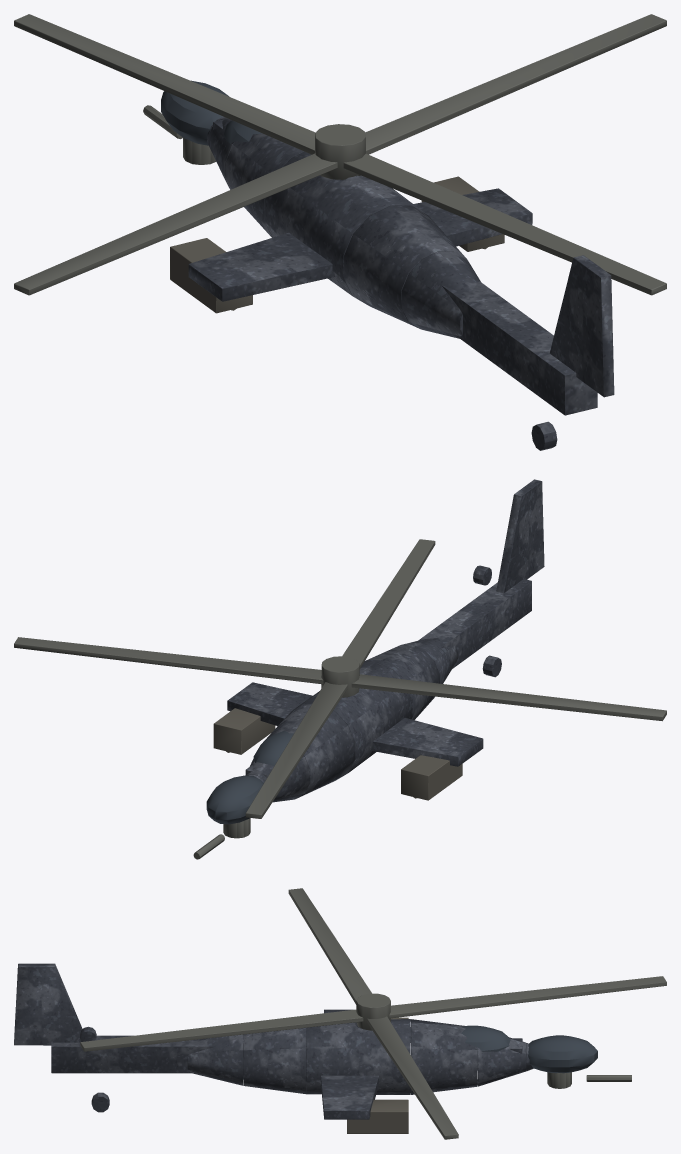
The model's file is hel_e3_us_attack_LOD1.glb.
3 renders of one model, top to bottom at view 1: azimuth 30°, elevation 25°; view 2: azimuth 150°, elevation 25°; view 3: azimuth 270°, elevation 25°, orthographic. The views are drawn at different scales.
Parts seen in each view (by area): view 1: hel_e3_us_attack_LOD1_body, hel_e3_us_attack_LOD1_gun, hel_e3_us_attack_LOD1_deck, hel_e3_us_attack_LOD1_glass; view 2: hel_e3_us_attack_LOD1_body, hel_e3_us_attack_LOD1_gun, hel_e3_us_attack_LOD1_deck, hel_e3_us_attack_LOD1_glass; view 3: hel_e3_us_attack_LOD1_body, hel_e3_us_attack_LOD1_gun, hel_e3_us_attack_LOD1_glass, hel_e3_us_attack_LOD1_deck.
Part boxes in pixels (bbox=[...]): hel_e3_us_attack_LOD1_body: bbox=[188, 116, 614, 450]; hel_e3_us_attack_LOD1_gun: bbox=[14, 14, 666, 295]; hel_e3_us_attack_LOD1_deck: bbox=[170, 176, 504, 313]; hel_e3_us_attack_LOD1_glass: bbox=[161, 80, 262, 145]; hel_e3_us_attack_LOD1_body: bbox=[227, 479, 544, 802]; hel_e3_us_attack_LOD1_gun: bbox=[14, 539, 666, 859]; hel_e3_us_attack_LOD1_deck: bbox=[213, 708, 462, 800]; hel_e3_us_attack_LOD1_glass: bbox=[206, 730, 302, 824]; hel_e3_us_attack_LOD1_body: bbox=[14, 963, 533, 1119]; hel_e3_us_attack_LOD1_gun: bbox=[80, 888, 666, 1139]; hel_e3_us_attack_LOD1_glass: bbox=[461, 1025, 597, 1073]; hel_e3_us_attack_LOD1_deck: bbox=[347, 1017, 408, 1133].
Bounding box in the file's own units: 14.19 × 3.87 × 15.79.
4 materials, 1 textured.
